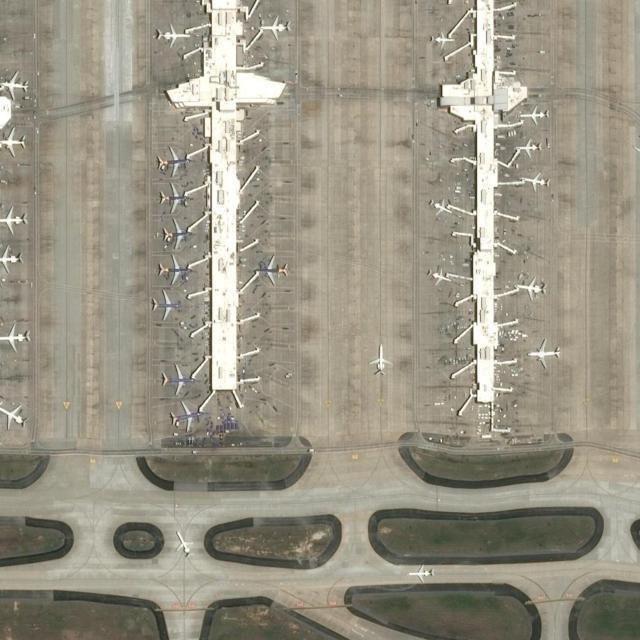Aircraft: (157, 360, 202, 396), (152, 147, 195, 179), (156, 253, 199, 285), (157, 181, 197, 215), (248, 255, 290, 287), (147, 289, 187, 322), (163, 402, 203, 435), (154, 18, 194, 50), (157, 219, 197, 251), (527, 337, 563, 369), (252, 12, 293, 40), (510, 274, 549, 302), (0, 69, 30, 101), (1, 399, 31, 431), (169, 527, 197, 561), (405, 558, 439, 586), (0, 205, 30, 236), (0, 320, 30, 351), (0, 126, 30, 156), (368, 342, 392, 378), (513, 133, 547, 158), (518, 102, 552, 126), (518, 170, 552, 194), (0, 245, 26, 275), (423, 264, 453, 288), (428, 29, 459, 50), (425, 196, 455, 216), (632, 133, 640, 165)
